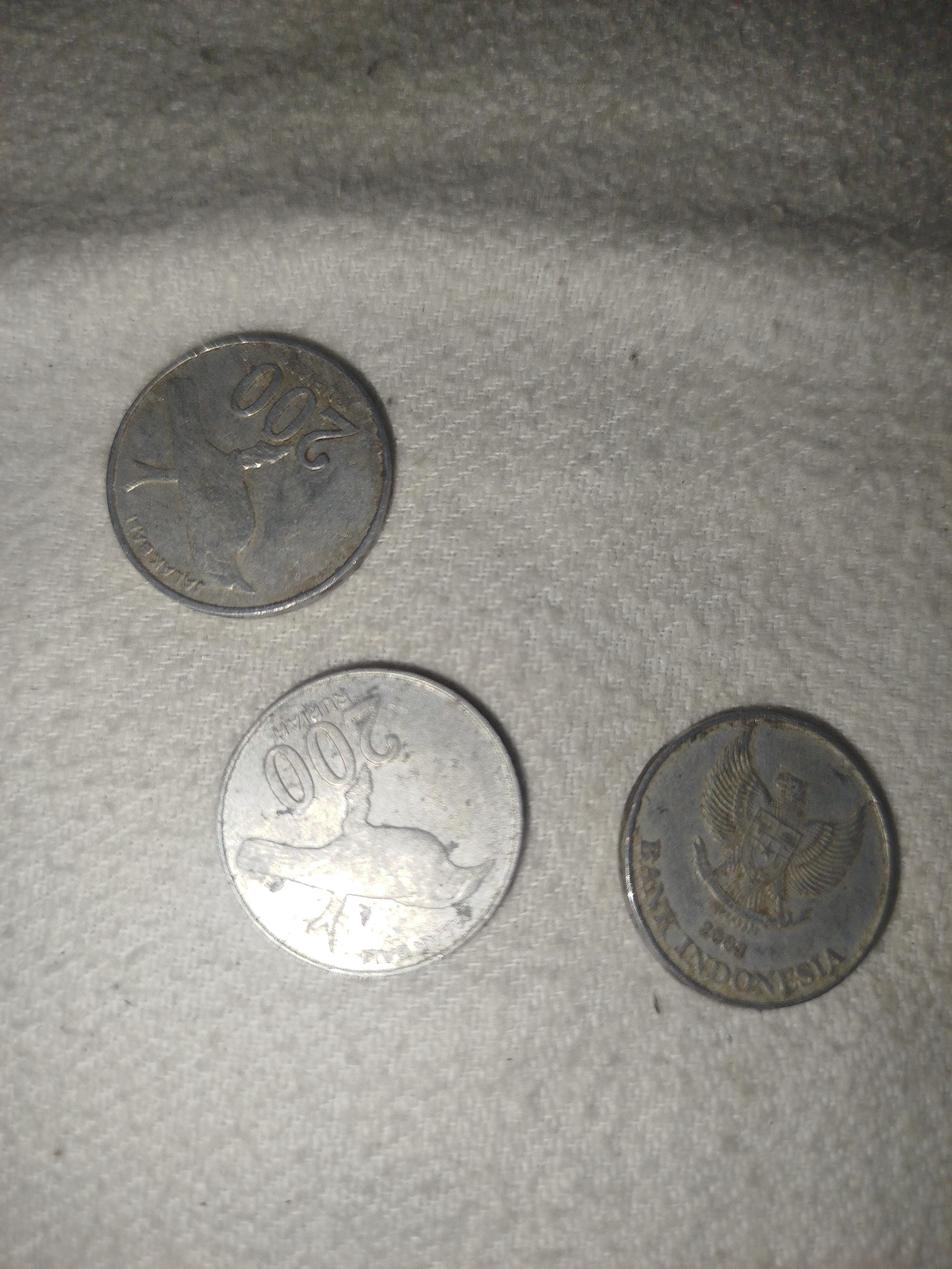coin_200_e2003: (226, 660, 535, 994), (107, 328, 403, 627), (621, 698, 896, 1019)
